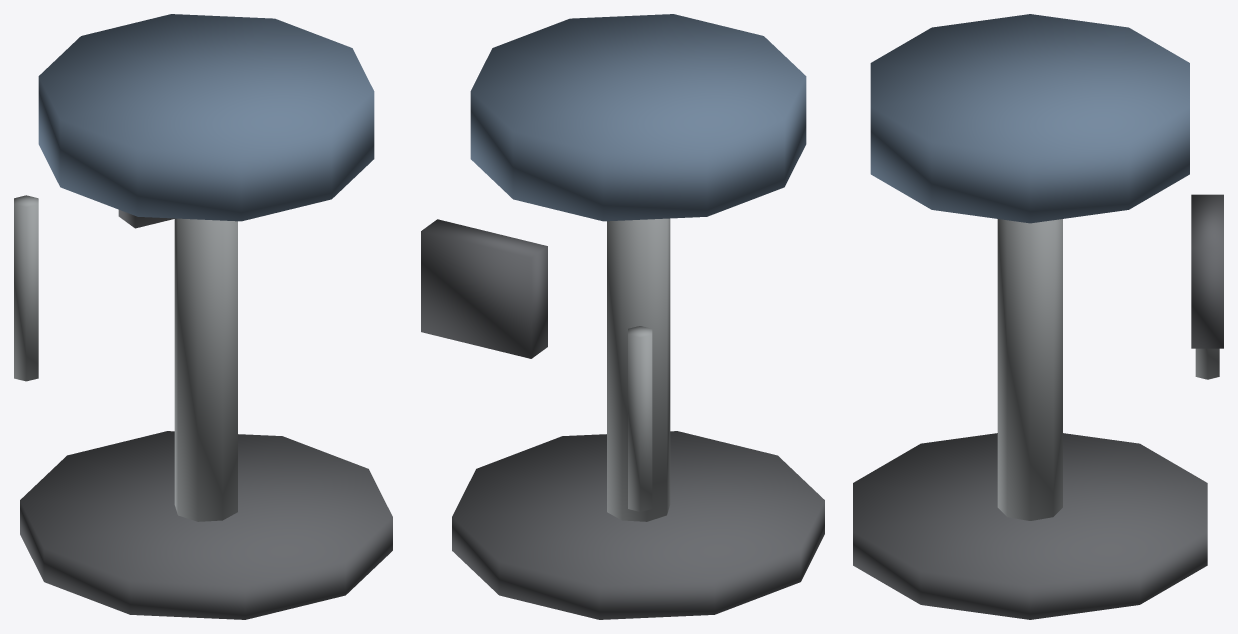
Rendered from lab_stool__service.glb.
3 renders of one model, left to right at view 1: azimuth 30°, elevation 25°; view 2: azimuth 150°, elevation 25°; view 3: azimuth 270°, elevation 25°, orthographic.
Visible parts, largest first — view 1: world; view 2: world; view 3: world.
Part boxes in pixels (box(x1,y1,x2,y2)): world: box(14, 14, 392, 619); world: box(421, 14, 824, 619); world: box(853, 14, 1223, 619).
Size of the model in its own units: 0.4 by 0.54 by 0.3979.
